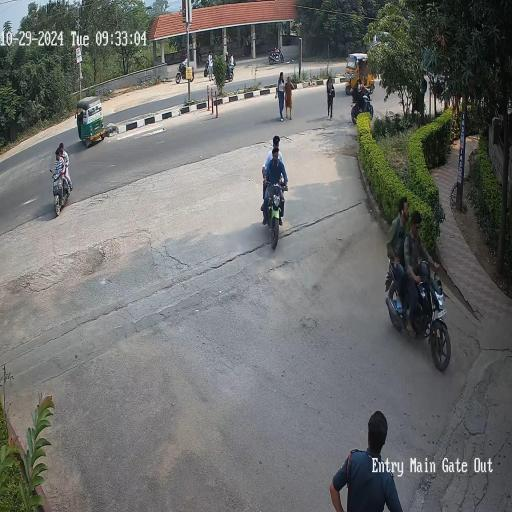no helmet: (408, 209, 430, 248), (272, 143, 293, 174)
triple riding: (41, 138, 77, 220)
